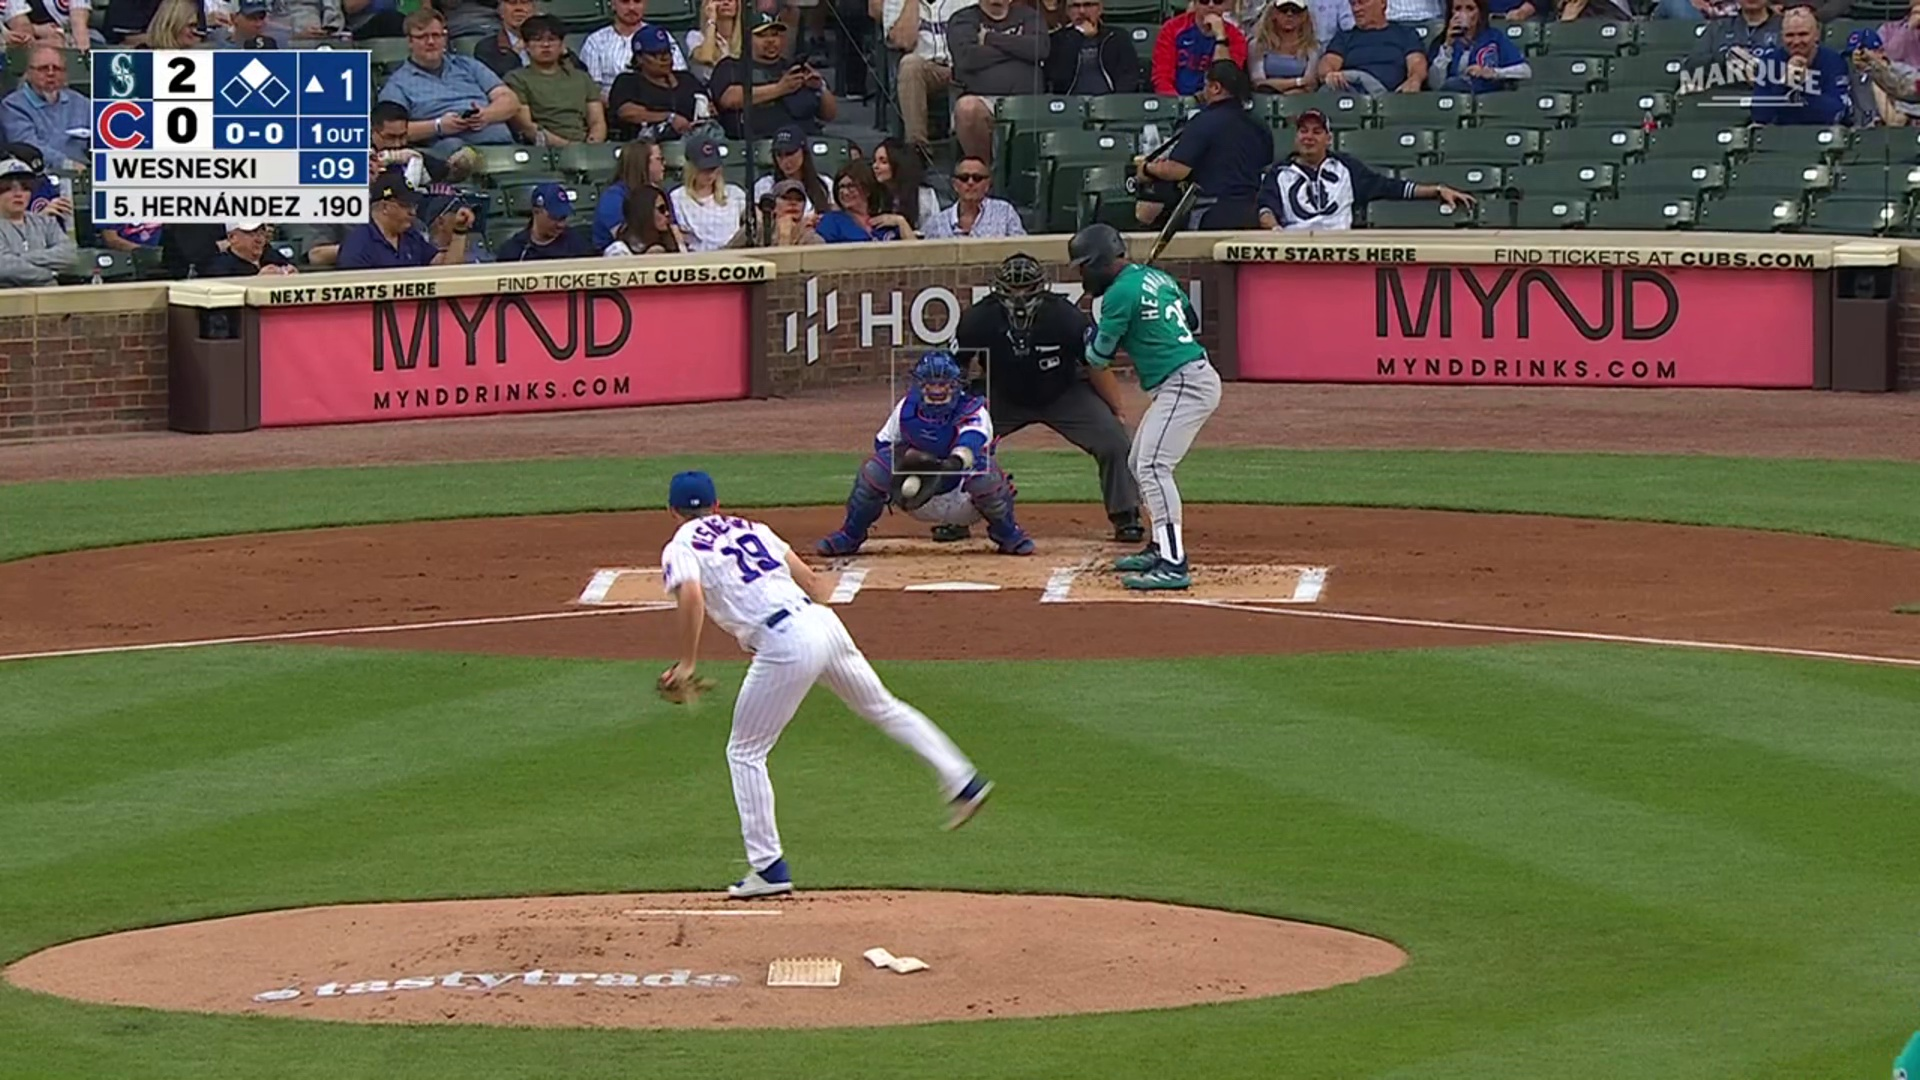baseball: (901, 475, 920, 497)
